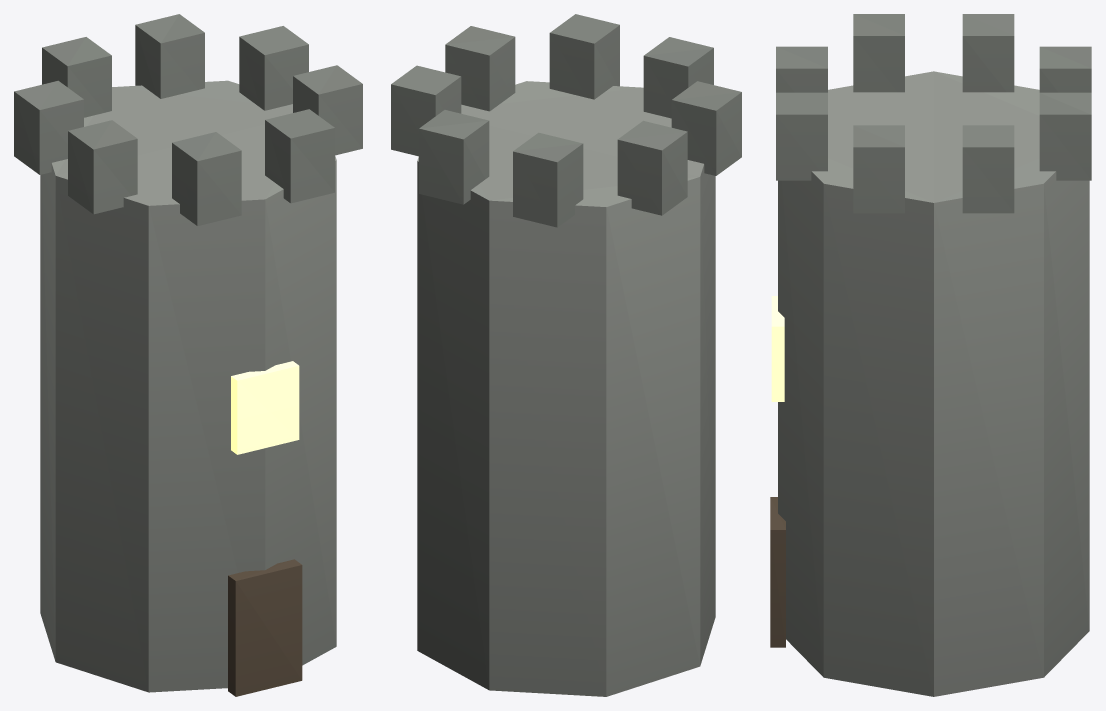
Rendered from tower.glb.
3 views of the same model, side by side, from view 1: azimuth 30°, elevation 25°; view 2: azimuth 150°, elevation 25°; view 3: azimuth 270°, elevation 25° (orthographic).
Parts seen in each view (by area): view 1: tower; view 2: tower; view 3: tower.
Boxes of the visible parts, x1,y1,x2,y2 form: tower: [14, 14, 362, 696]; tower: [391, 14, 741, 696]; tower: [770, 14, 1091, 696].
Bounding box in the file's own units: 1.22 × 2.34 × 1.24.
